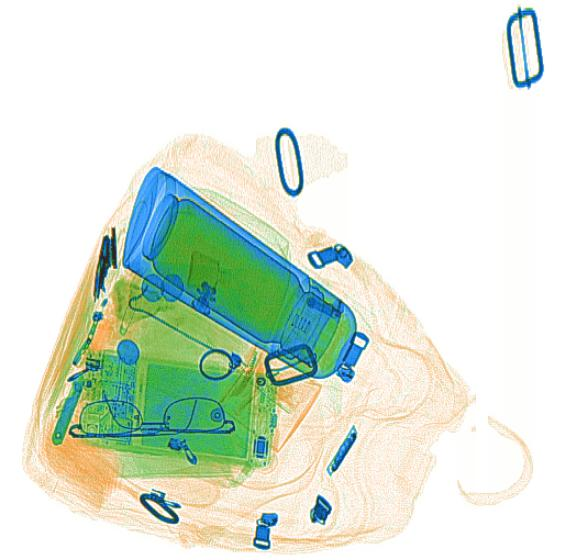knife: (50, 373, 86, 446)
